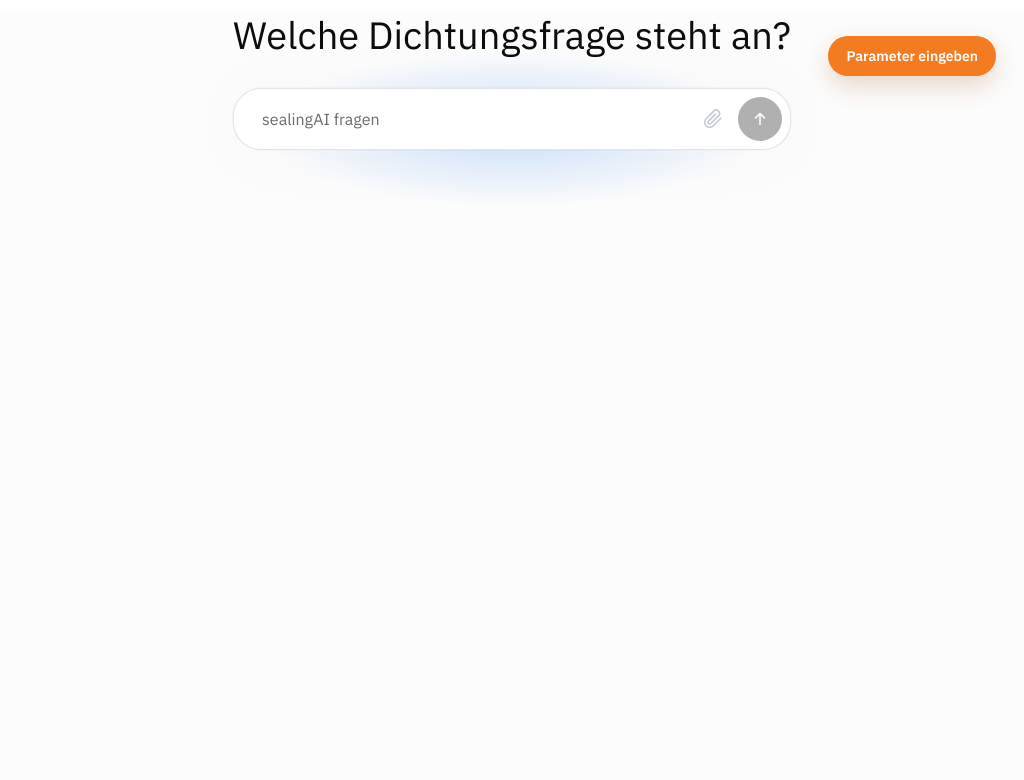
pilot-ui stage (fresh conversation) › the stage shows the fast-path card (not the '+' popover); 'Berechnen' settles + surfaces the confirmation
Click the button with test id "open-cockpit" at (912, 56), box [828,36,996,76]
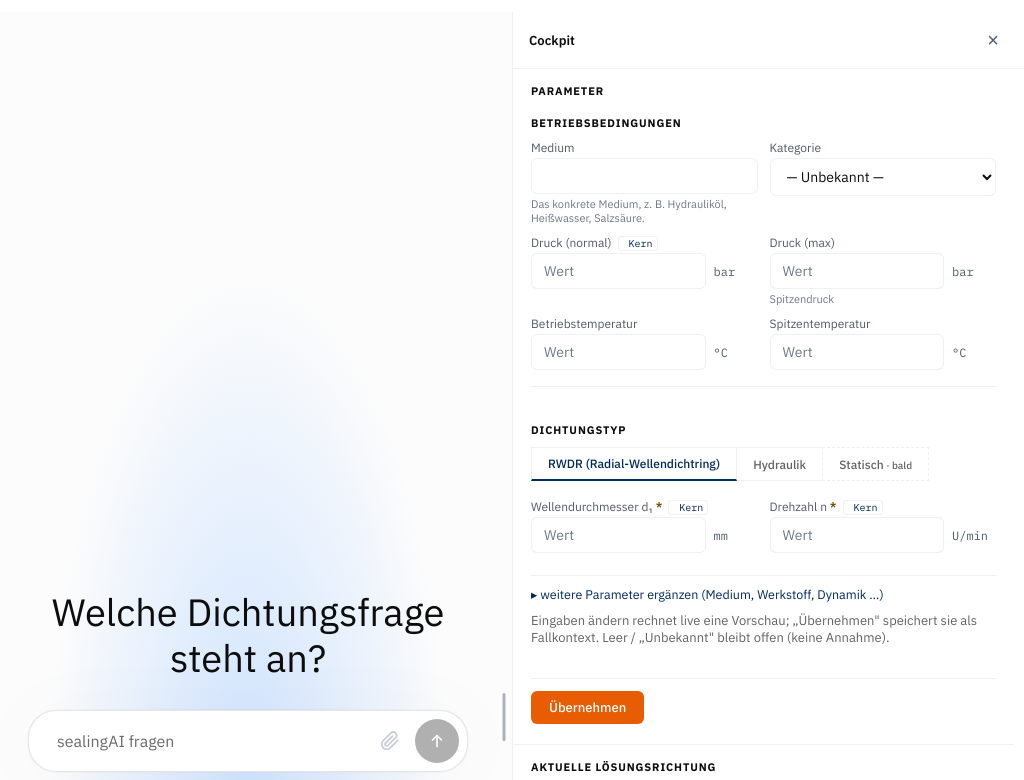
Check: the element with test id "param-compact" is shown, box [531,499,996,553]
Type "50" into the field with test id "param-wellendurchmesser" at (618, 535), box [531,517,706,553]
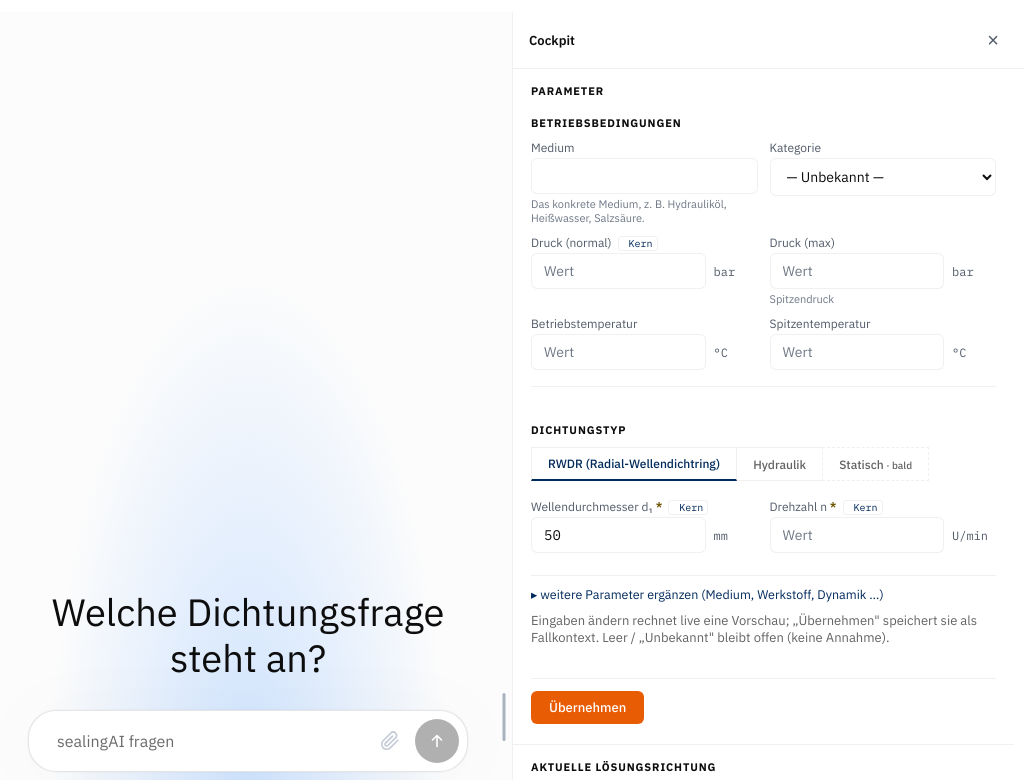
Click the button with test id "param-submit" at (588, 708), box [531,691,644,724]
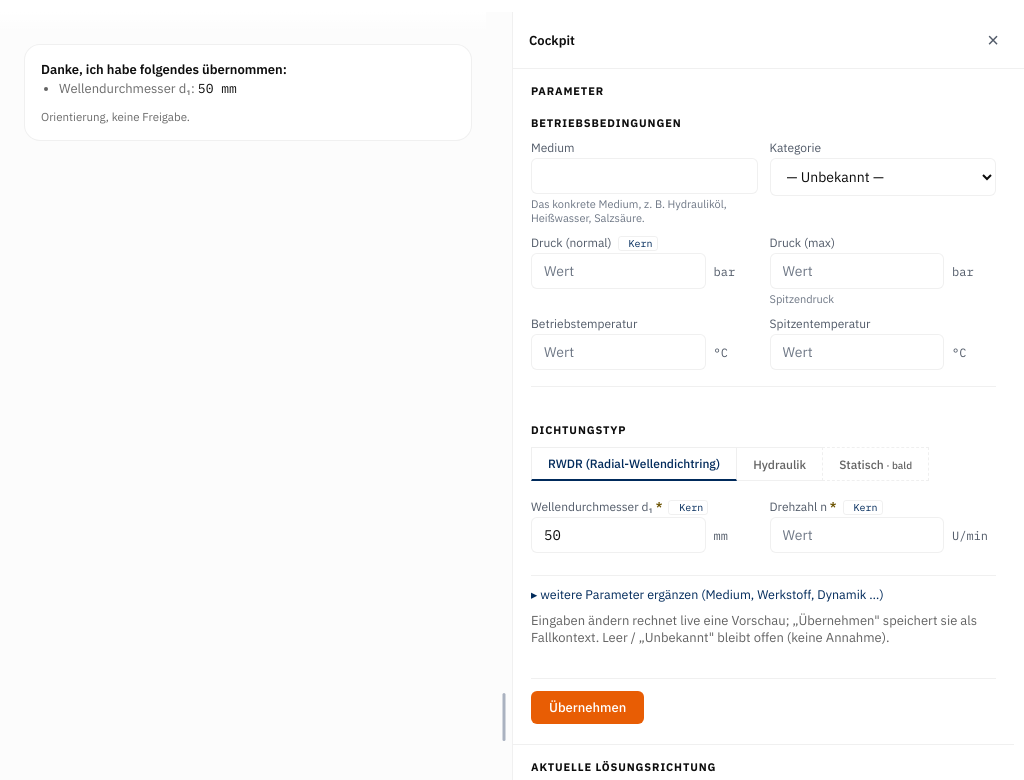
Check: the element with test id "param-confirmation" shows "übernommen", box [41,61,287,78]
